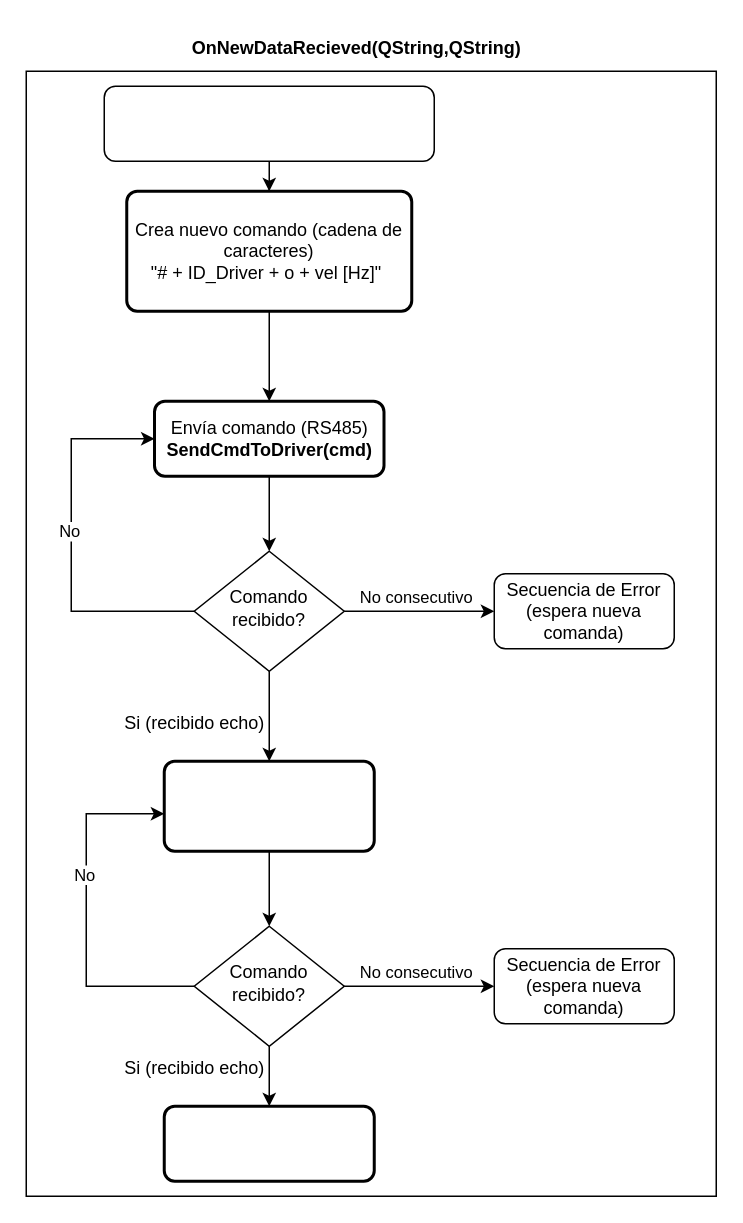
Image size: 743x1223. Some labels were removed from this diagram. The centre of each missing label's shape, as x and y in pixels:
"Envia comando de inicio de motor (A) SendCmdToDriver(cmd)" goes at [268,805].
"Espera nueva comanda" goes at [268,1143].
"Nueva comanda recibida (% vel motor derecho, % vel motor izquierdo)" goes at [268,123].
